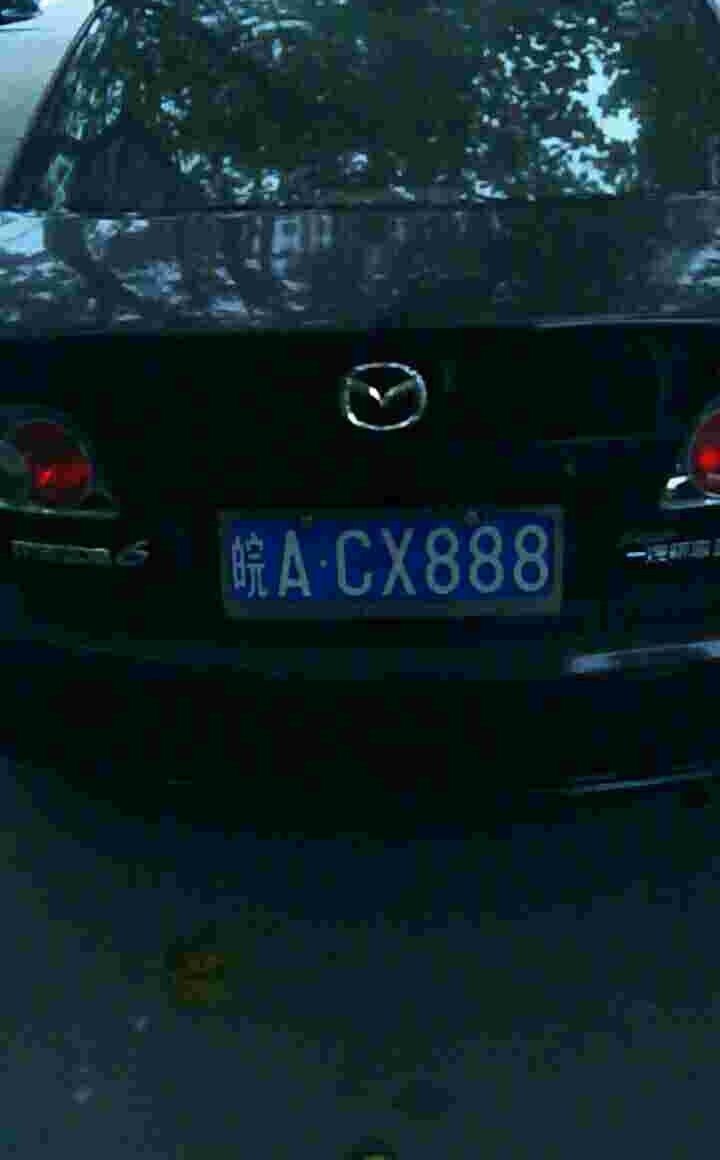license_plate: (209, 509, 566, 622)
